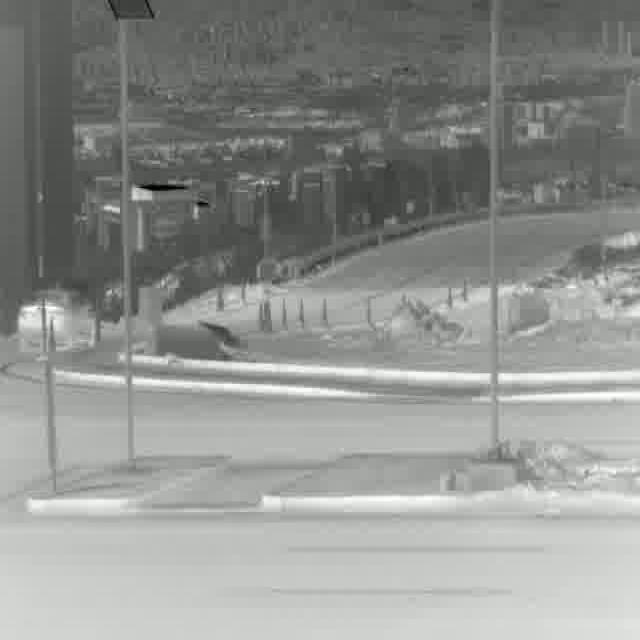Car: (16, 286, 96, 353)
